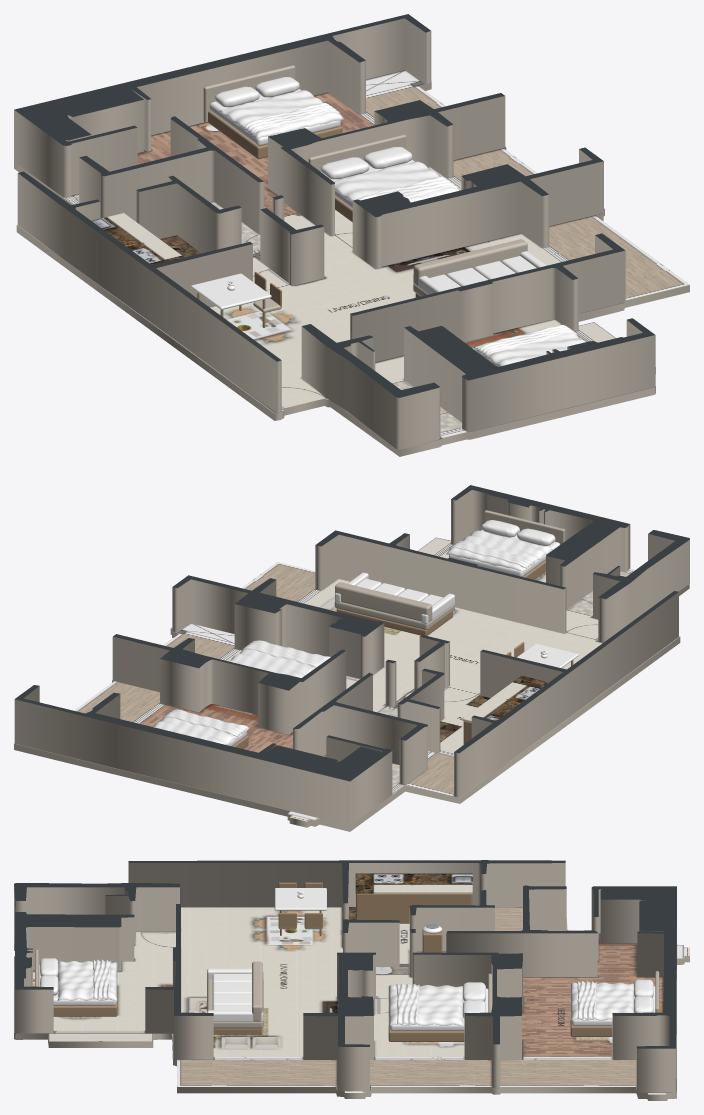
3 views of the same model, one above another, from view 1: azimuth 30°, elevation 25°; view 2: azimuth 150°, elevation 25°; view 3: azimuth 270°, elevation 25° (orthographic). The views are drawn at different scales.
Visible parts, largest first — view 1: Partition walls, Apartment floor, Draped bed linen, Draped bed linen.002, Stone worktop, Sofa back, Marble dining top, Draped bed linen.004, Upholstered headboard, Upholstered headboard.001, Draped bed linen.001, Draped bed linen.005 (+7 smaller); view 2: Partition walls, Apartment floor, Sofa back, Draped bed linen.004, Stone worktop, Draped bed linen.002, Draped bed linen, Upholstered sofa frame, Draped bed linen.003, Marble dining top, Upholstered headboard.002, Draped bed linen.001 (+3 smaller); view 3: Partition walls, Apartment floor, Stone worktop, Kitchen cabinets, Draped bed linen.002, Draped bed linen.004, Draped bed linen, Marble dining top, Draped bed linen.003, Walnut upholstered base.001, Walnut upholstered base.002, Draped bed linen.001 (+12 smaller).
Part boxes in pixels (<box>): Partition walls: <box>14,14,655,449</box>; Apartment floor: <box>14,70,689,456</box>; Draped bed linen: <box>219,90,343,138</box>; Draped bed linen.002: <box>334,161,460,203</box>; Stone worktop: <box>92,213,184,264</box>; Sofa back: <box>413,239,527,285</box>; Marble dining top: <box>191,273,271,309</box>; Draped bed linen.004: <box>473,328,586,366</box>; Upholstered headboard: <box>203,65,295,122</box>; Upholstered headboard.001: <box>308,134,406,171</box>; Draped bed linen.001: <box>241,103,340,135</box>; Draped bed linen.005: <box>476,325,577,357</box>; Partition walls: <box>14,485,689,825</box>; Apartment floor: <box>14,535,689,831</box>; Sofa back: <box>335,582,432,621</box>; Draped bed linen.004: <box>446,530,552,571</box>; Stone worktop: <box>462,675,548,722</box>; Draped bed linen.002: <box>229,640,330,677</box>; Draped bed linen: <box>153,710,249,744</box>; Upholstered sofa frame: <box>334,601,454,630</box>; Draped bed linen.003: <box>242,640,328,667</box>; Marble dining top: <box>517,643,578,668</box>; Upholstered headboard.002: <box>484,510,565,544</box>; Draped bed linen.001: <box>163,709,246,737</box>; Partition walls: <box>14,860,676,1092</box>; Apartment floor: <box>14,907,689,1100</box>; Stone worktop: <box>355,873,472,893</box>; Kitchen cabinets: <box>356,893,472,923</box>; Draped bed linen.002: <box>388,985,463,1026</box>; Draped bed linen.004: <box>57,961,117,1001</box>; Draped bed linen: <box>570,982,634,1020</box>; Marble dining top: <box>274,888,326,910</box>; Draped bed linen.003: <box>396,983,419,1025</box>; Walnut upholstered base.001: <box>388,1026,464,1041</box>; Walnut upholstered base.002: <box>53,1001,117,1016</box>; Draped bed linen.001: <box>577,981,596,1019</box>.
Size of the model in its own units: 10.65 by 1.3 by 15.94.
10 materials, 1 textured.
